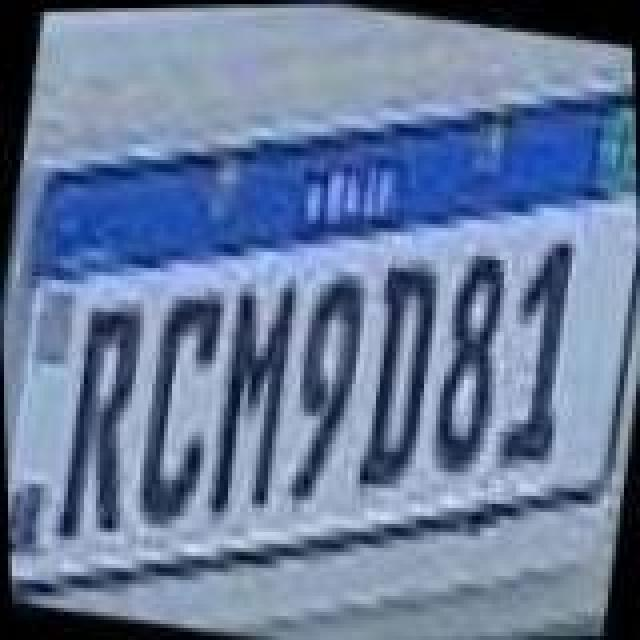1: (480, 224, 592, 472)
8: (412, 236, 520, 476)
9: (266, 260, 378, 512)
C: (116, 282, 232, 534)
D: (338, 254, 450, 498)
M: (192, 264, 308, 528)
R: (40, 286, 160, 546)
